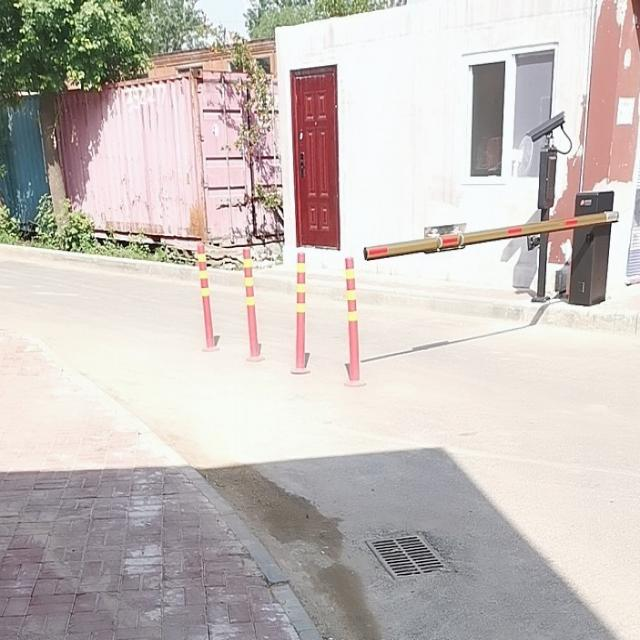warning_column: (343, 254, 367, 386), (286, 250, 310, 374), (240, 246, 264, 362), (196, 243, 218, 349)
